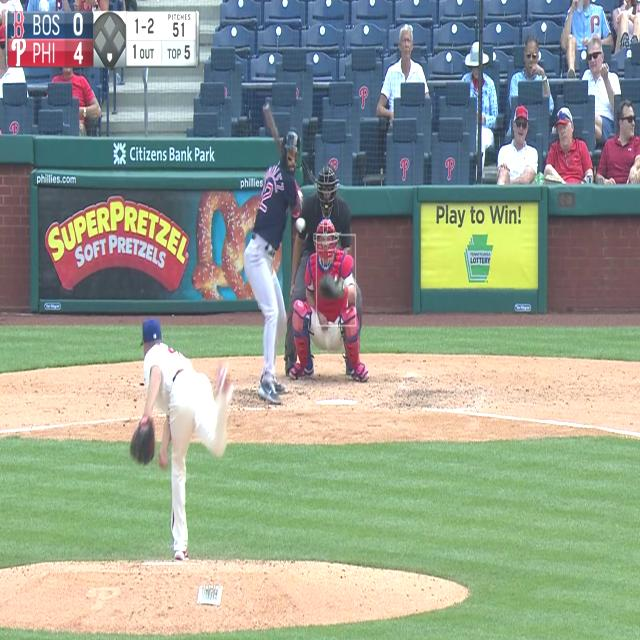baseball: (296, 217, 306, 232)
